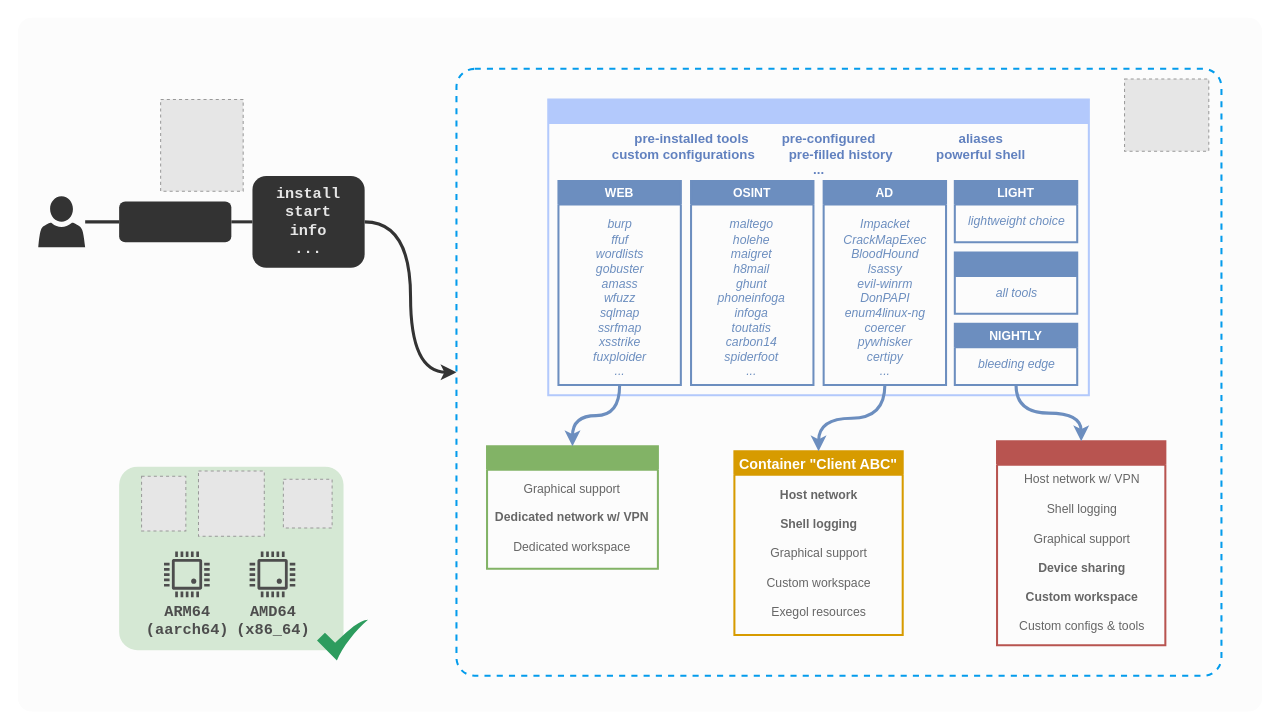
This 1279x728 diagram has some shape labels left out. Grey dashed boxes stand in for pictures. Here are the shapes that lost their labels. From the top down, the box of each, then its label:
(119, 201, 231, 242): exegol.py
(547, 98, 1089, 396): Exegol images
(953, 251, 1078, 314): FULL
(486, 445, 658, 569): Container "HTB"
(996, 440, 1166, 646): Container "Client XYZ"
